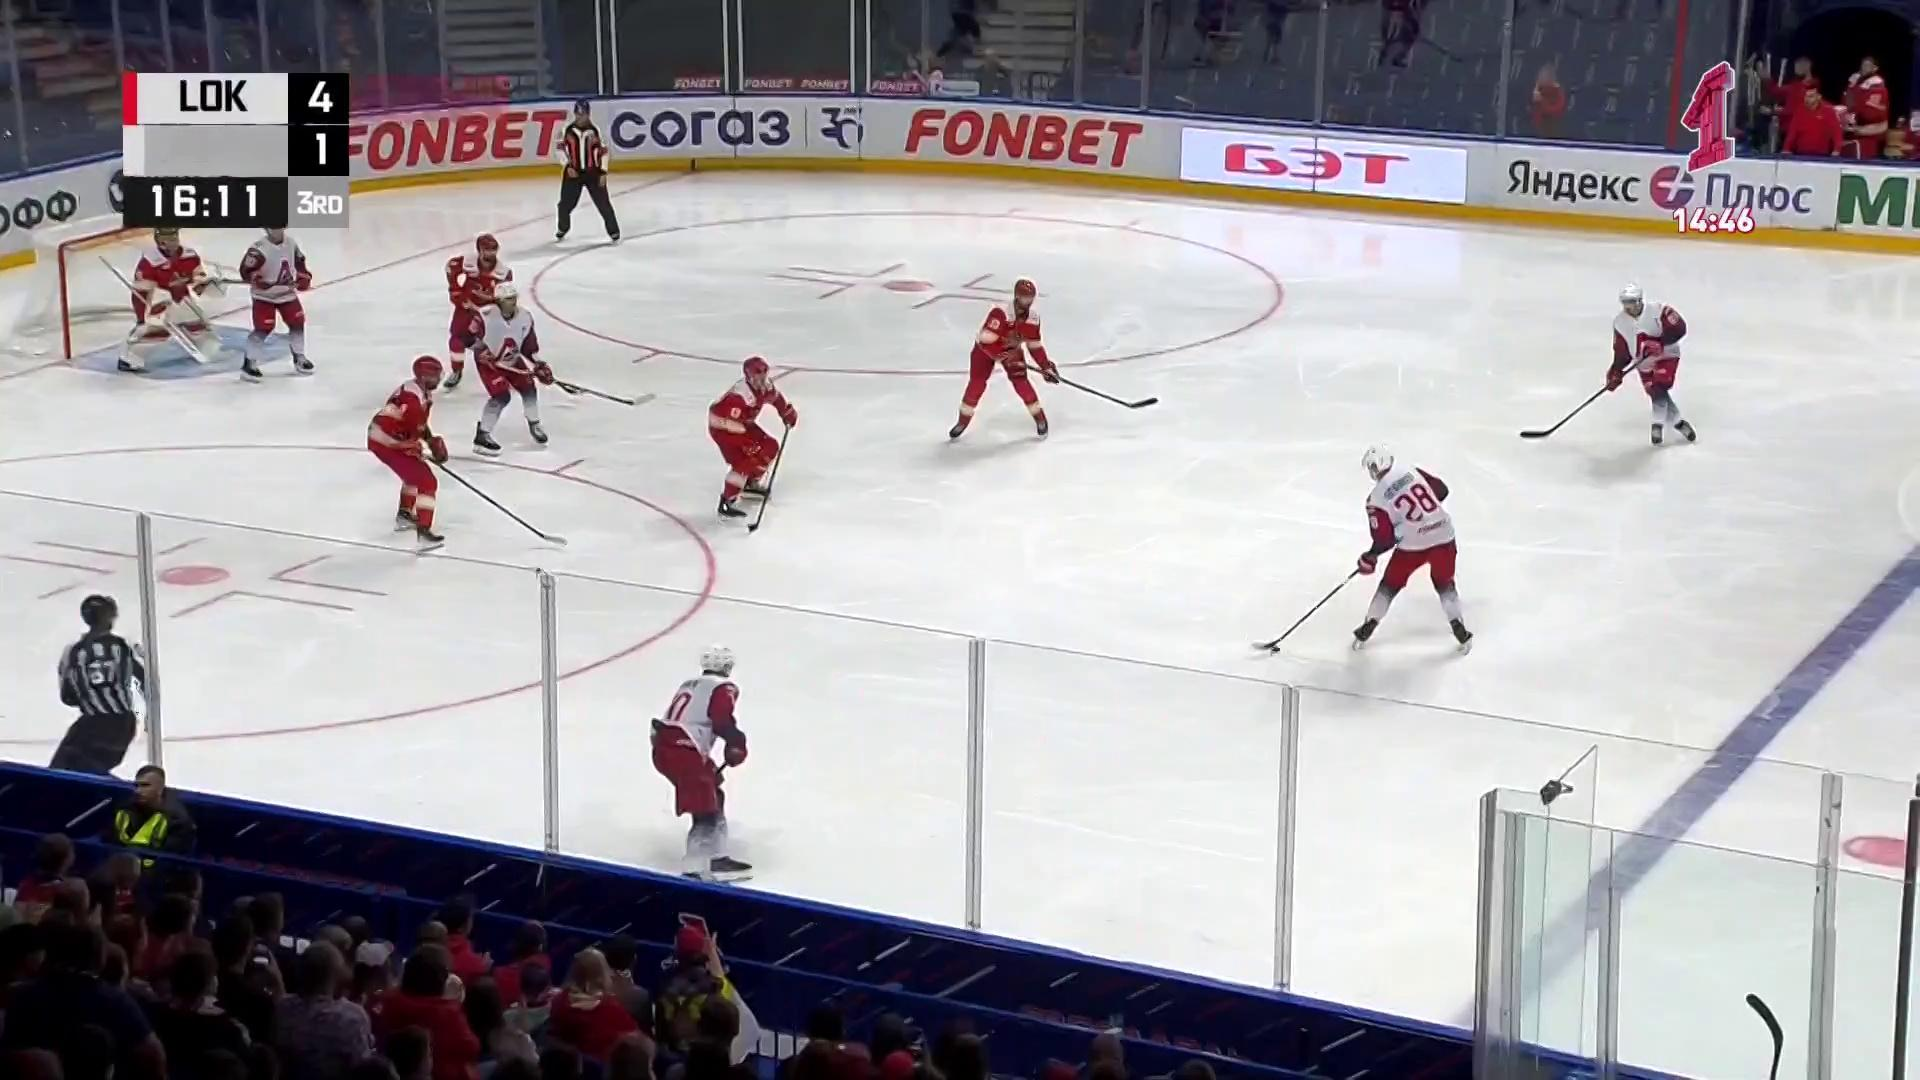ball: (1273, 647, 1280, 653)
